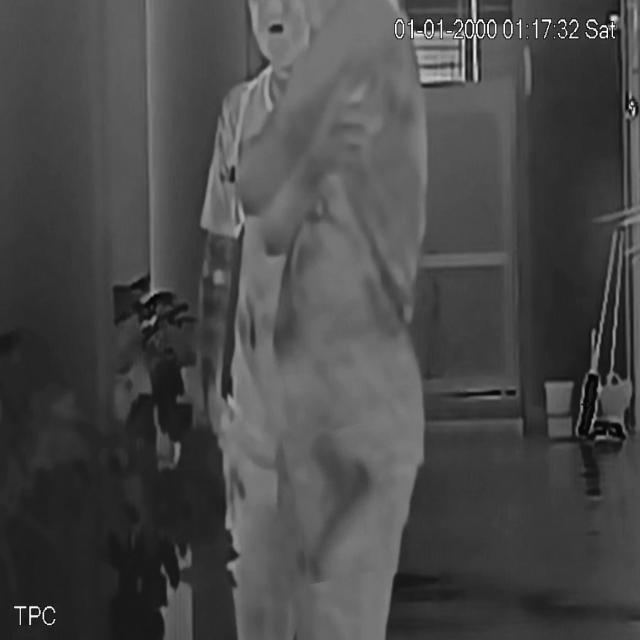Weapon: (288, 427, 388, 581)
